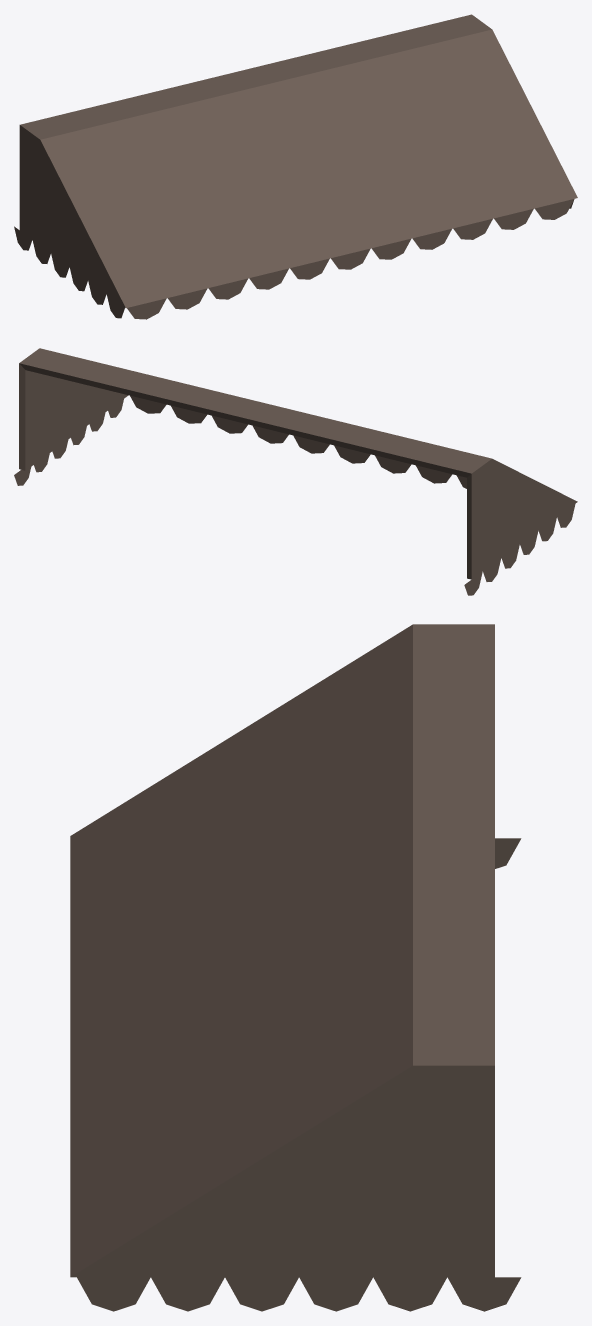
The model's file is CanvasStoreFront1.fbx.glb.
3 views of the same model, one above another, from view 1: azimuth 30°, elevation 25°; view 2: azimuth 150°, elevation 25°; view 3: azimuth 270°, elevation 25° (orthographic). The views are drawn at different scales.
Parts seen in each view (by area): view 1: CanvasStoreFront1.1; view 2: CanvasStoreFront1.1; view 3: CanvasStoreFront1.1.
Part boxes in pixels (x1,y1,x2,y2): CanvasStoreFront1.1: (14,14,577,319); CanvasStoreFront1.1: (14,348,577,595); CanvasStoreFront1.1: (70,624,521,1311).
Bounding box in the file's own units: 343 × 89.85 × 148.
